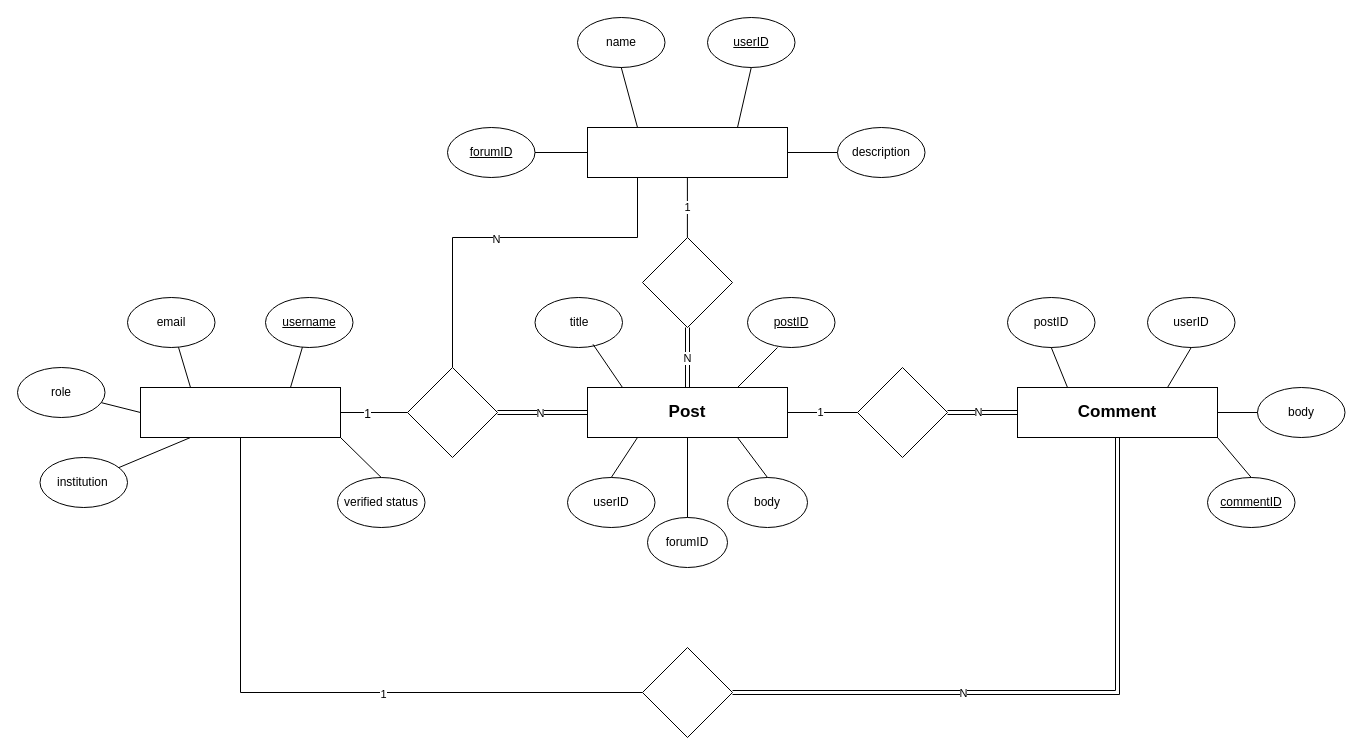
Some shapes in this 1363 by 755 pixel diagram are drawn without their labels. Here are the shapes that lost their labels. From the top down, the box of each, then its label:
(586, 126, 788, 178): Forums
(642, 236, 732, 328): contains
(140, 386, 340, 438): User
(406, 366, 498, 458): creates
(856, 366, 948, 458): has
(642, 646, 732, 738): writes
